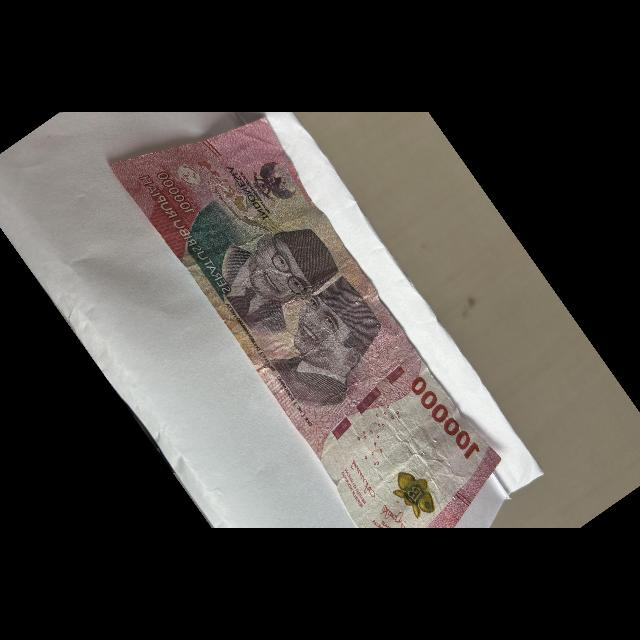Palsu-100k: (102, 68, 510, 559)
Tinta-Palsu-100k: (384, 462, 447, 526)
